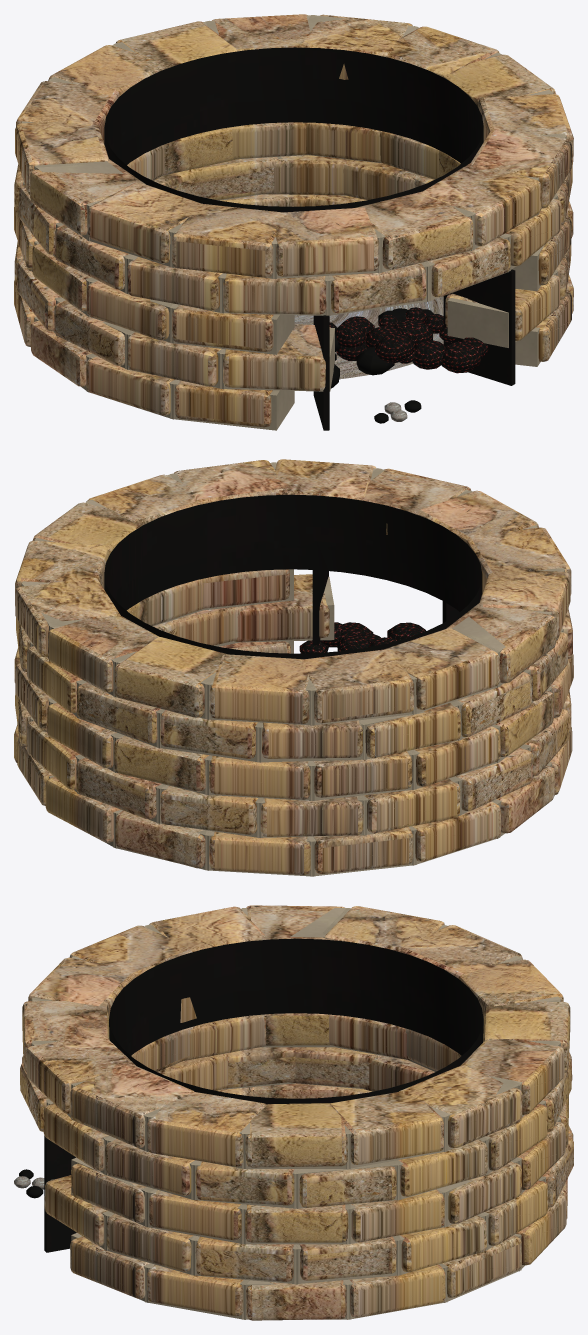
File: PROP_Common_CharcoalStove_A.glb
3 renders of one model, top to bottom at view 1: azimuth 30°, elevation 25°; view 2: azimuth 150°, elevation 25°; view 3: azimuth 270°, elevation 25°, orthographic.
Visible parts, largest first — view 1: PROP_Common_CharcoalStove_A; view 2: PROP_Common_CharcoalStove_A; view 3: PROP_Common_CharcoalStove_A.
Part boxes in pixels (left/top/right/bottom): PROP_Common_CharcoalStove_A: left=14, top=14, right=573, bottom=430; PROP_Common_CharcoalStove_A: left=14, top=459, right=573, bottom=876; PROP_Common_CharcoalStove_A: left=14, top=905, right=573, bottom=1320.
Bounding box in the file's own units: 1.1 × 0.41 × 1.1.
9 materials, 9 textured.
